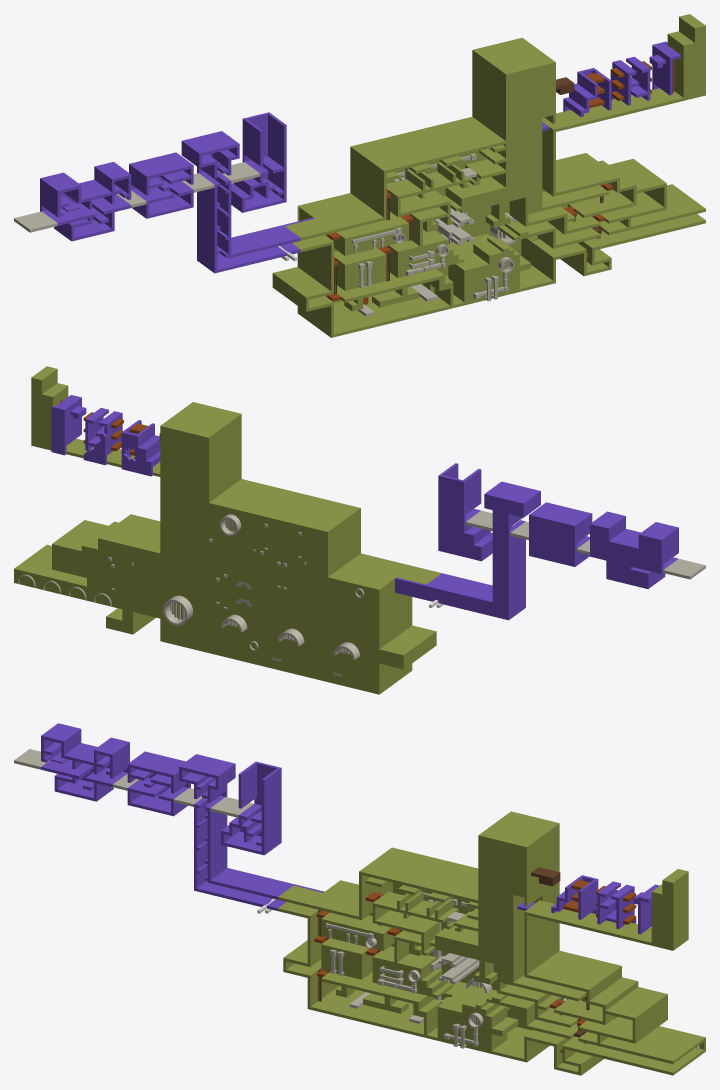
Rendered from Level1_Revamped (1).fbx.
The picture shows the model from 3 angles, top to bottom: view 1: azimuth 30°, elevation 25°; view 2: azimuth 150°, elevation 25°; view 3: azimuth 330°, elevation 25°; orthographic projection. The views are drawn at different scales.
Visible parts, largest first — view 1: Cube, Cube.076, Cube.020, Cube.002, Cube.012, Cube.022, Cube.016, Cube.069, Cube.072, Cube.063, Cube.073, Cube.066 (+14 smaller); view 2: Cube.076, Cube, Cube.081, Cube.020, Cube.074, Cube.077, Cube.075, Cube.063, Cube.002, Cube.072, Cube.067, Cube.078 (+11 smaller); view 3: Cube, Cube.020, Cube.076, Cube.002, Cube.012, Cube.022, Cube.016, Cube.069, Cube.063, Cube.073, Cube.072, Cube.066 (+13 smaller).
Part boxes in pixels (box(x1,y1,x2,y2)): Cube: box(285, 50, 608, 240); Cube.076: box(272, 37, 689, 325); Cube.020: box(542, 14, 705, 235); Cube.002: box(290, 235, 453, 337); Cube.012: box(386, 162, 469, 277); Cube.022: box(537, 214, 705, 283); Cube.016: box(448, 236, 530, 305); Cube.069: box(231, 113, 286, 212); Cube.072: box(198, 172, 300, 273); Cube.063: box(41, 163, 131, 216); Cube.073: box(212, 171, 300, 258); Cube.066: box(42, 194, 131, 241); Cube.076: box(14, 413, 420, 694); Cube: box(178, 402, 441, 584); Cube.081: box(395, 493, 525, 620); Cube.020: box(31, 366, 160, 560); Cube.074: box(590, 523, 663, 588); Cube.077: box(438, 474, 483, 561); Cube.075: box(529, 513, 576, 566); Cube.063: box(592, 511, 678, 563); Cube.002: box(396, 593, 436, 681); Cube.072: box(510, 520, 525, 618); Cube.067: box(531, 502, 592, 542); Cube.078: box(121, 431, 152, 476); Cube: box(278, 824, 586, 1027); Cube.020: box(524, 869, 688, 1063); Cube.076: box(299, 811, 705, 1063); Cube.002: box(278, 902, 442, 1037); Cube.012: box(372, 891, 458, 998); Cube.022: box(524, 1030, 688, 1075); Cube.016: box(437, 993, 518, 1053); Cube.069: box(221, 768, 279, 855); Cube.063: box(41, 724, 128, 778); Cube.073: box(205, 795, 293, 899); Cube.072: box(194, 798, 285, 910); Cube.066: box(41, 759, 127, 801).
Size of the model in its own units: 24350 by 7700 by 2925.
